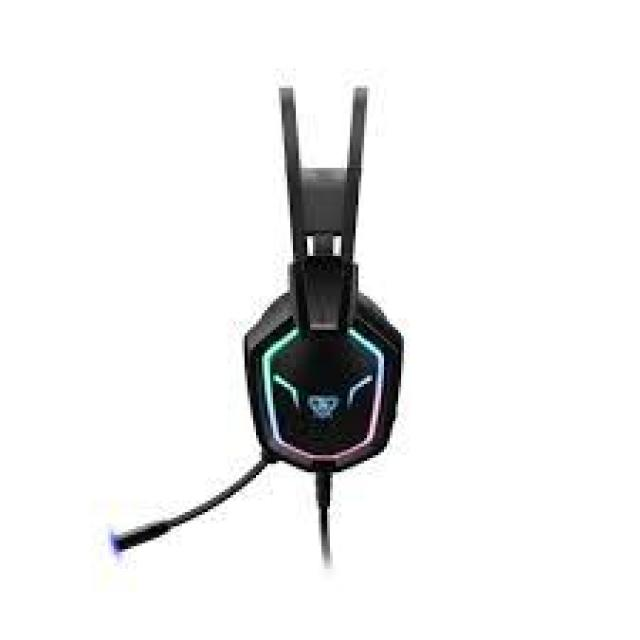headset: (230, 89, 412, 493)
